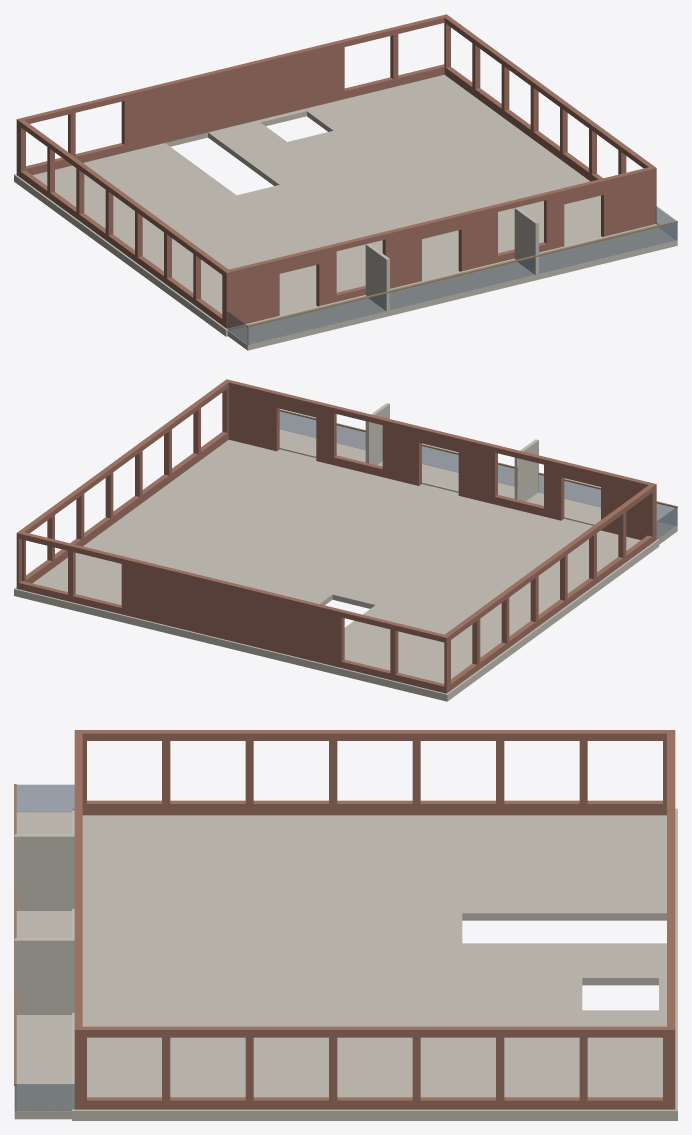
Rendered from brick-floor.zfix-v14.lod1.glb.
3 views of the same model, one above another, from view 1: azimuth 30°, elevation 25°; view 2: azimuth 150°, elevation 25°; view 3: azimuth 270°, elevation 25° (orthographic). The views are drawn at different scales.
Visible parts, largest first — view 1: brick-floor; view 2: brick-floor; view 3: brick-floor.
Part boxes in pixels (x1,y1,x2,y2): brick-floor: (14,14,677,350); brick-floor: (14,379,677,701); brick-floor: (14,730,677,1120).
Bounding box in the file's own units: 26.2 × 3.62 × 24.32.
